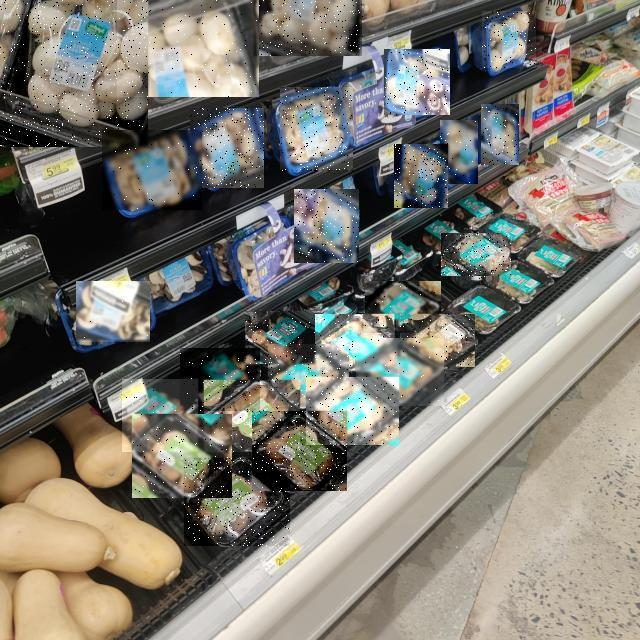Mushroom: (0, 0, 148, 147), (117, 0, 259, 97), (184, 458, 290, 546), (132, 415, 232, 499), (103, 130, 203, 210), (252, 411, 347, 491), (205, 380, 301, 452), (306, 377, 399, 445), (254, 0, 364, 56), (280, 88, 353, 172), (356, 338, 444, 406), (190, 109, 264, 189), (123, 379, 199, 452), (268, 344, 349, 407), (181, 348, 261, 411), (294, 189, 359, 263), (316, 315, 398, 373), (76, 282, 150, 344), (385, 49, 451, 115), (400, 314, 475, 367), (365, 281, 441, 333), (245, 311, 315, 364), (394, 144, 448, 208), (441, 234, 511, 280), (482, 11, 536, 68), (440, 120, 478, 184), (481, 104, 519, 165)
